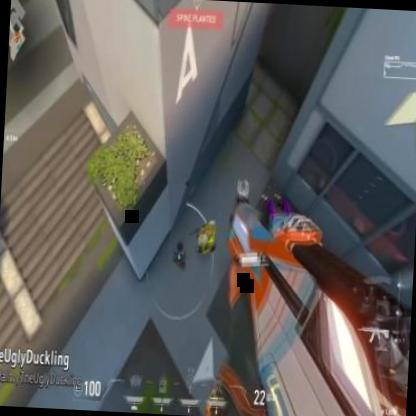enemy: (196, 217, 218, 256)
enemy_head: (200, 231, 209, 245)
